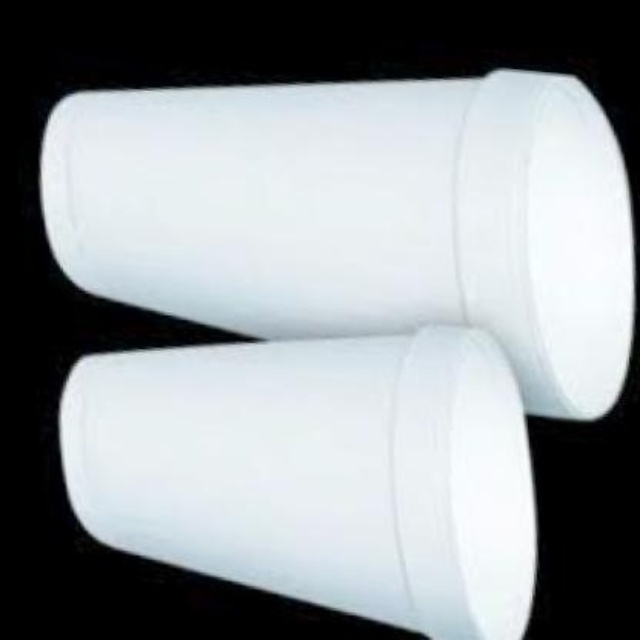trash: (42, 71, 632, 638), (42, 71, 632, 417), (60, 325, 534, 638)
